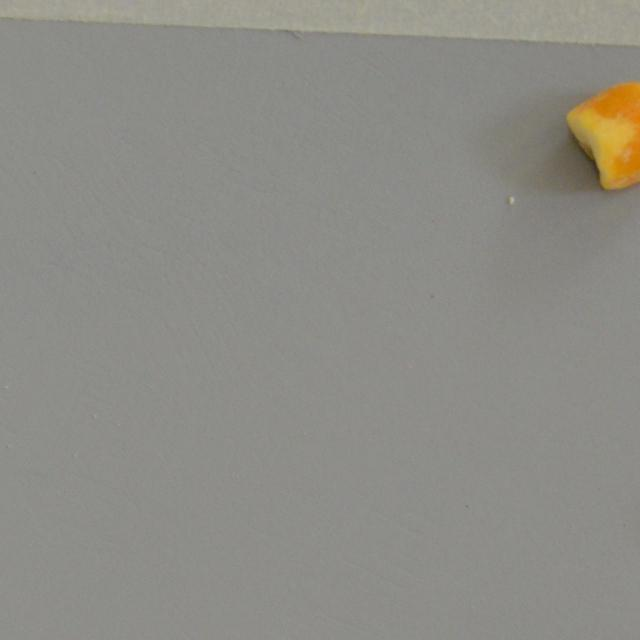dañado: (564, 78, 640, 194)
